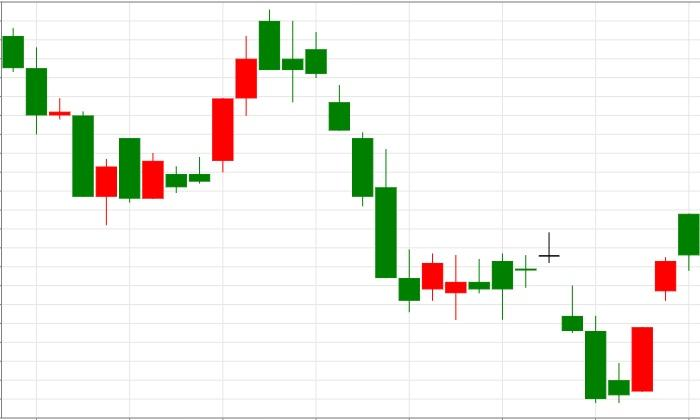inverse_hammer_rise: (259, 9, 419, 312)
